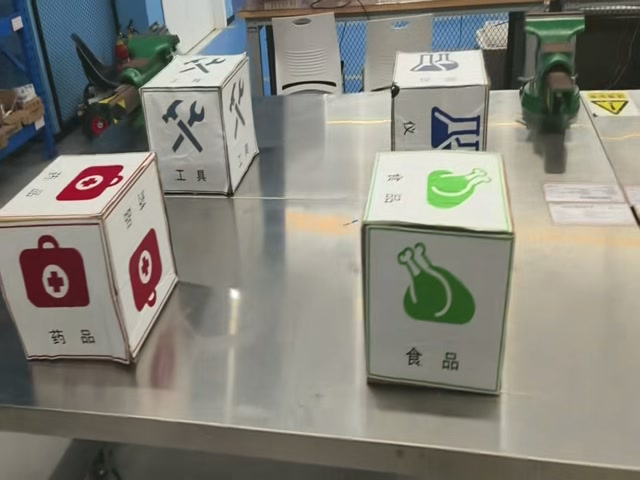Cube_food: (362, 151, 513, 235)
Cube_ins: (393, 51, 489, 90)
Cube_medicine: (0, 153, 155, 225)
Cube_tool: (142, 54, 247, 93)
